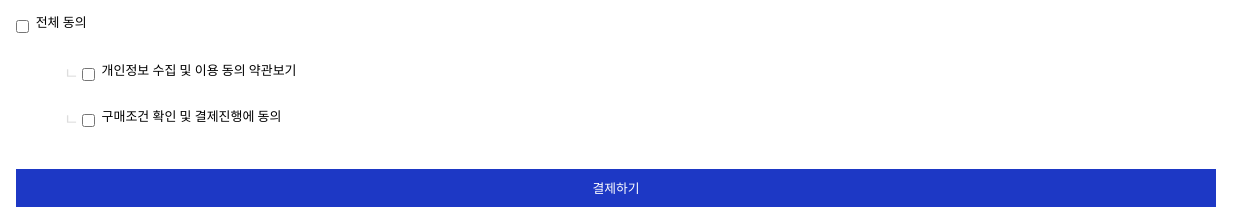
Test: Agreements › 약관 동의 › 전체 동의를 클릭했을 경우 › 전체 동의를 포함해 모든 체크박스가 체크되어 있는 것을 볼 수 있다
Click the checkbox labelled "전체 동의" at (22, 26), box [16,20,29,33]
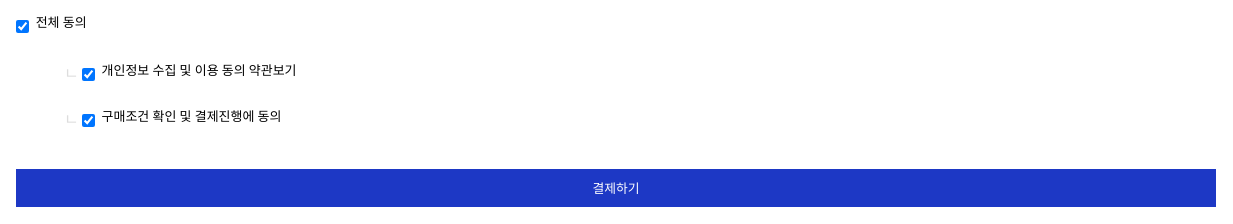
Now the checkbox labelled "전체 동의" is checked, box [16,20,29,33]
Now the checkbox labelled "개인정보 수집 및 이용 동의 약관보기" is checked, box [82,68,95,81]
Now the checkbox labelled "구매조건 확인 및 결제진행에 동의" is checked, box [82,114,95,127]
